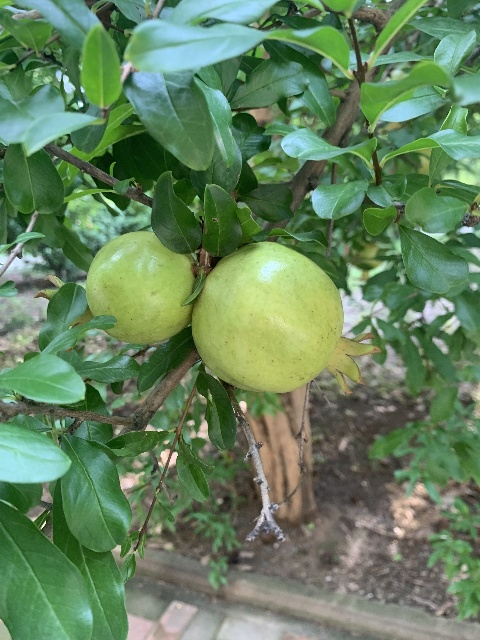mid-growth: (192, 240, 381, 397), (38, 230, 199, 345)
